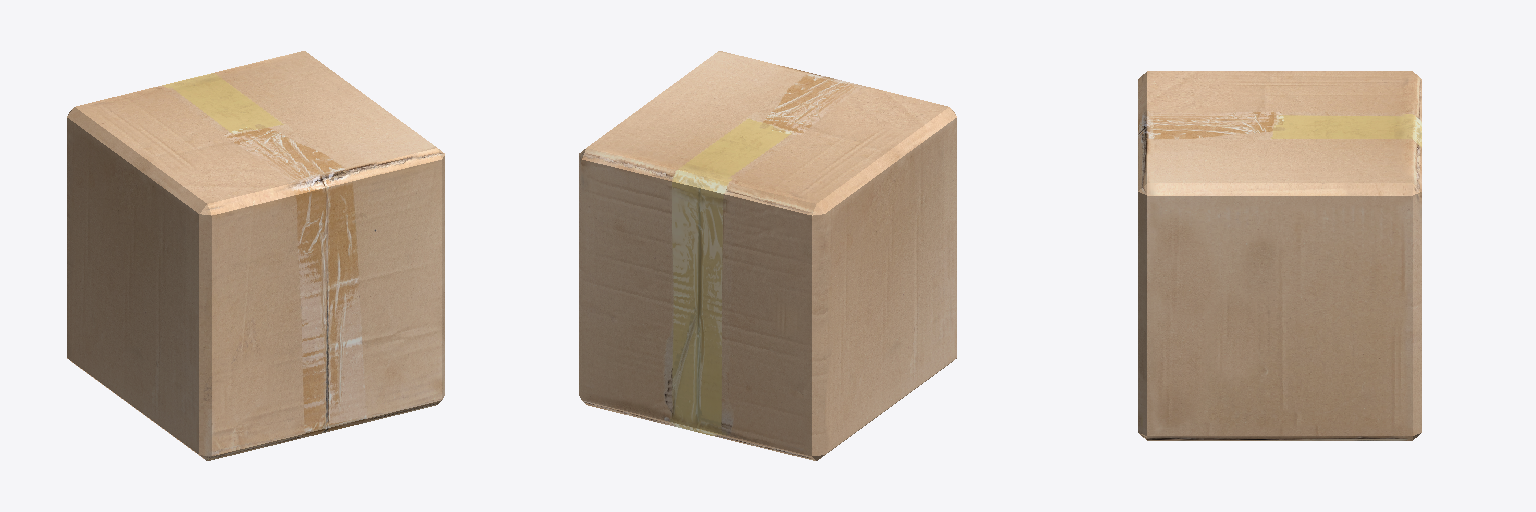
The picture shows the model from 3 angles: view 1: azimuth 30°, elevation 25°; view 2: azimuth 150°, elevation 25°; view 3: azimuth 270°, elevation 25°; orthographic projection.
Visible parts, largest first — view 1: Box_Material.001_0; view 2: Box_Material.001_0; view 3: Box_Material.001_0.
Boxes of the visible parts, <box> form: Box_Material.001_0: <box>67,51,444,460</box>; Box_Material.001_0: <box>579,51,956,460</box>; Box_Material.001_0: <box>1138,71,1421,440</box>.
Bounding box in the file's own units: 2 × 2 × 2.
Materials: 1 (1 with a texture image).